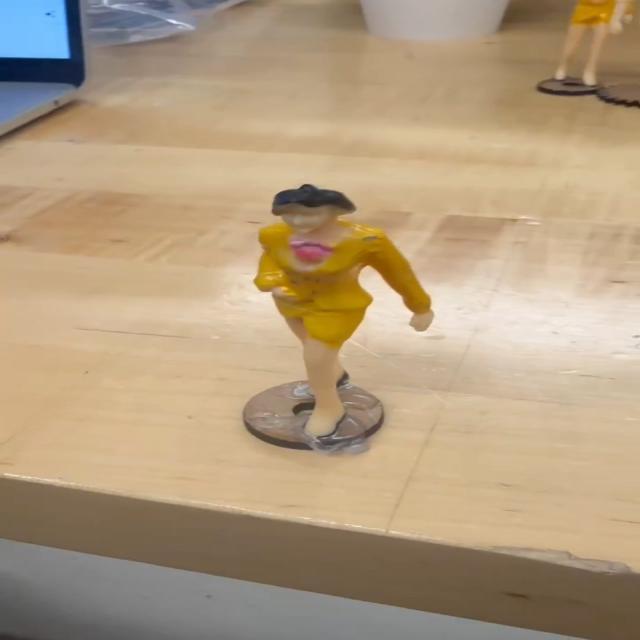Authorized: (231, 166, 442, 434)
